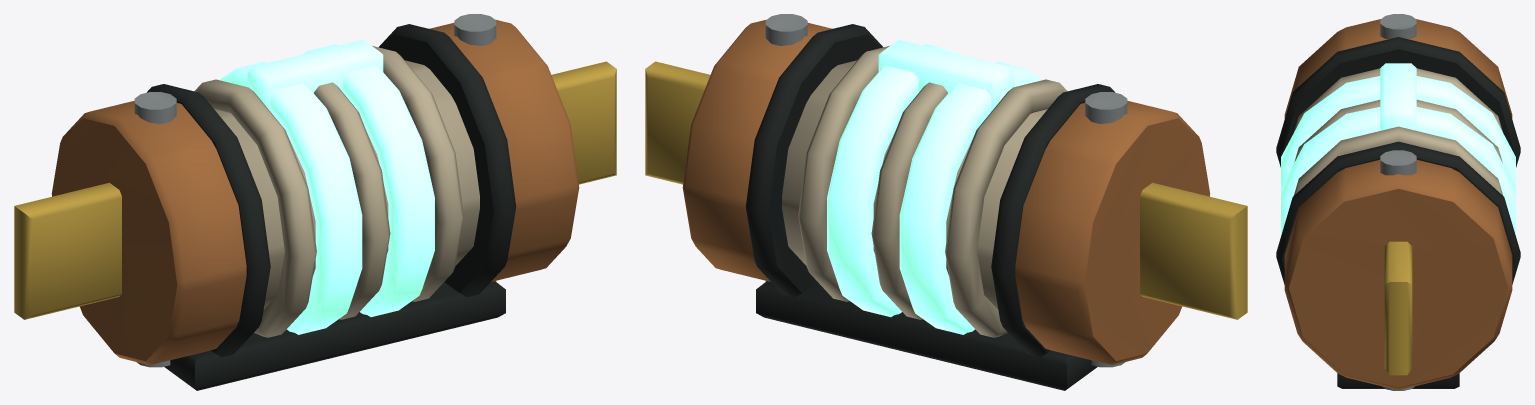
Rendered from cons_overload_fuse.glb.
The picture shows the model from 3 angles, left to right: view 1: azimuth 30°, elevation 25°; view 2: azimuth 150°, elevation 25°; view 3: azimuth 270°, elevation 25°; orthographic projection. The views are drawn at different scales.
Visible parts, largest first — view 1: cons_overload_fuse_mesh; view 2: cons_overload_fuse_mesh; view 3: cons_overload_fuse_mesh.
Part boxes in pixels (bbox=[...]): cons_overload_fuse_mesh: bbox=[14, 14, 616, 390]; cons_overload_fuse_mesh: bbox=[645, 14, 1247, 390]; cons_overload_fuse_mesh: bbox=[1276, 14, 1520, 390].
Size of the model in its own units: 0.685 by 0.301 by 0.28.
